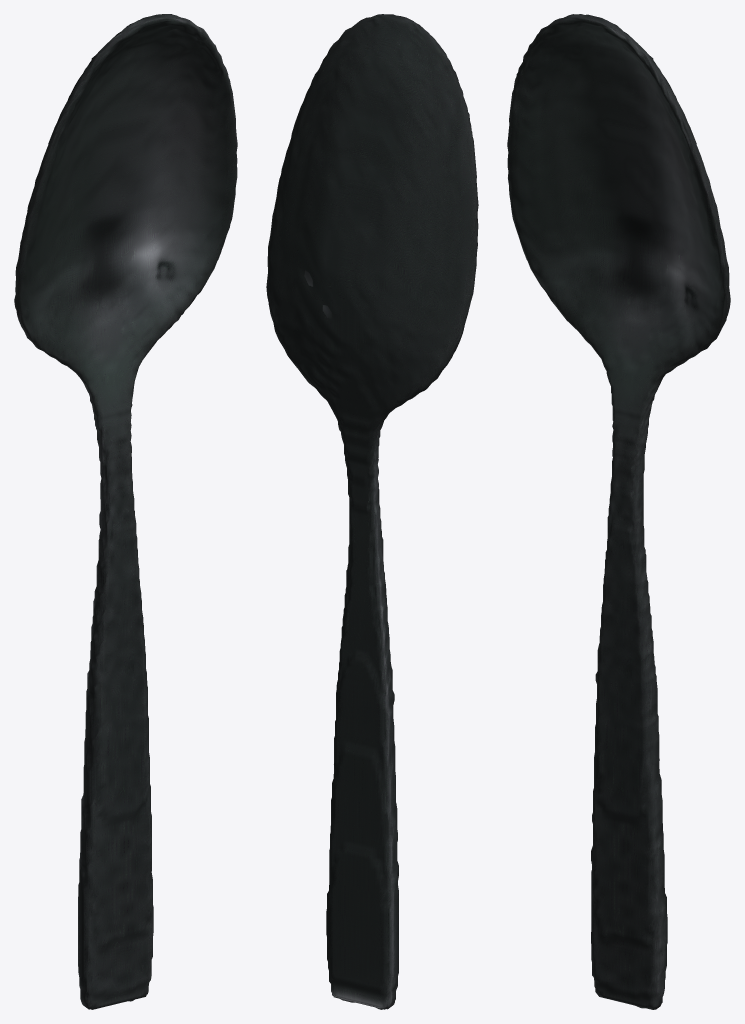
File: black_spoon_0308230311_texture.glb
The picture shows the model from 3 angles, left to right: view 1: azimuth 30°, elevation 25°; view 2: azimuth 150°, elevation 25°; view 3: azimuth 330°, elevation 25°; orthographic projection. The views are drawn at different scales.
Parts seen in each view (by area): view 1: Mesh_0.001; view 2: Mesh_0.001; view 3: Mesh_0.001.
Part boxes in pixels (left/top/right/bottom): Mesh_0.001: left=14, top=14, right=237, bottom=1009; Mesh_0.001: left=266, top=14, right=478, bottom=1009; Mesh_0.001: left=507, top=14, right=730, bottom=1009.
Size of the model in its own units: 0.0446 by 0.2032 by 0.0196.
1 material, 1 textured.
